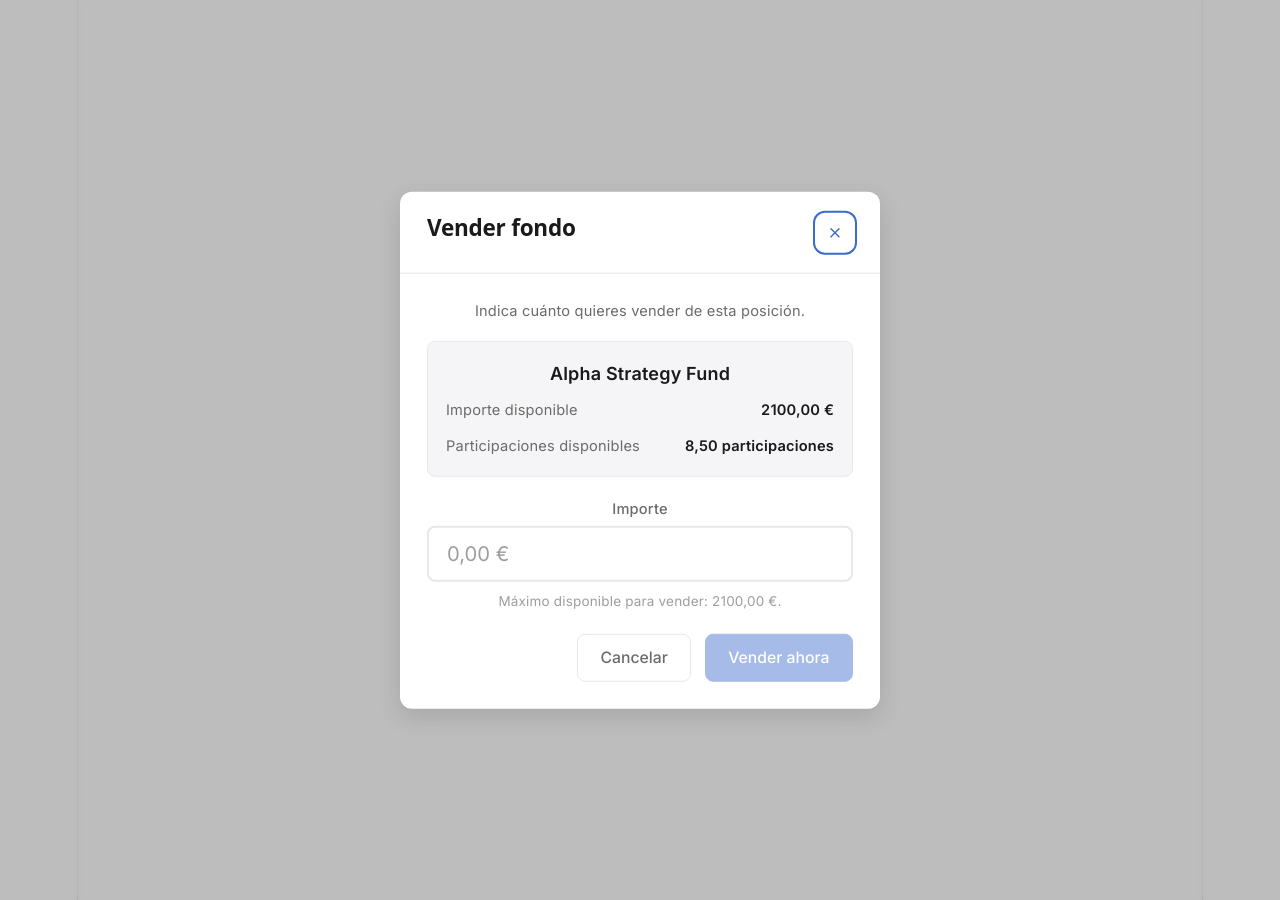
Test: SellDialog › normalizes negative amounts so they cannot be submitted
In the field labelled "Importe": (640, 554) [427,526,853,582], type "-50"
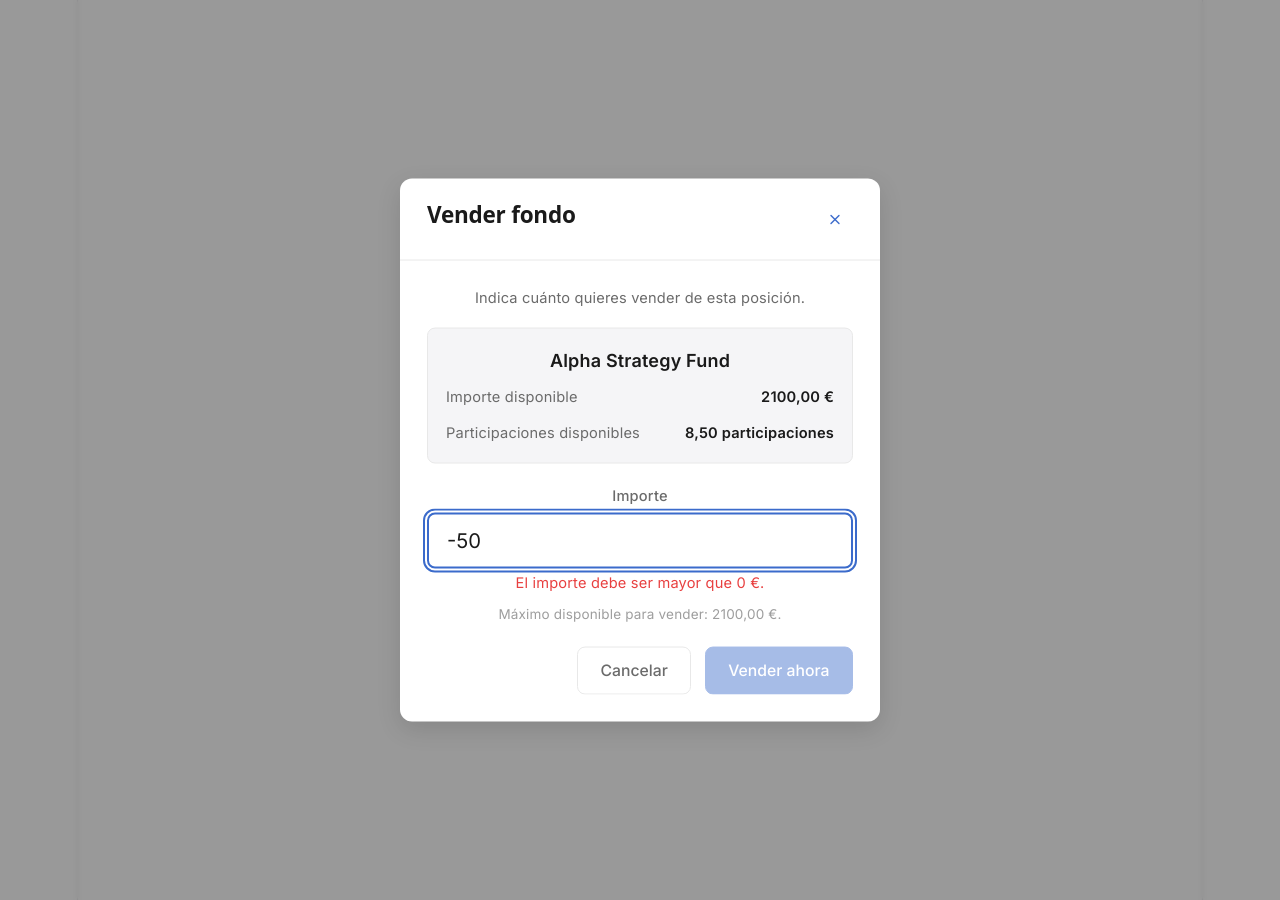
Press Tab
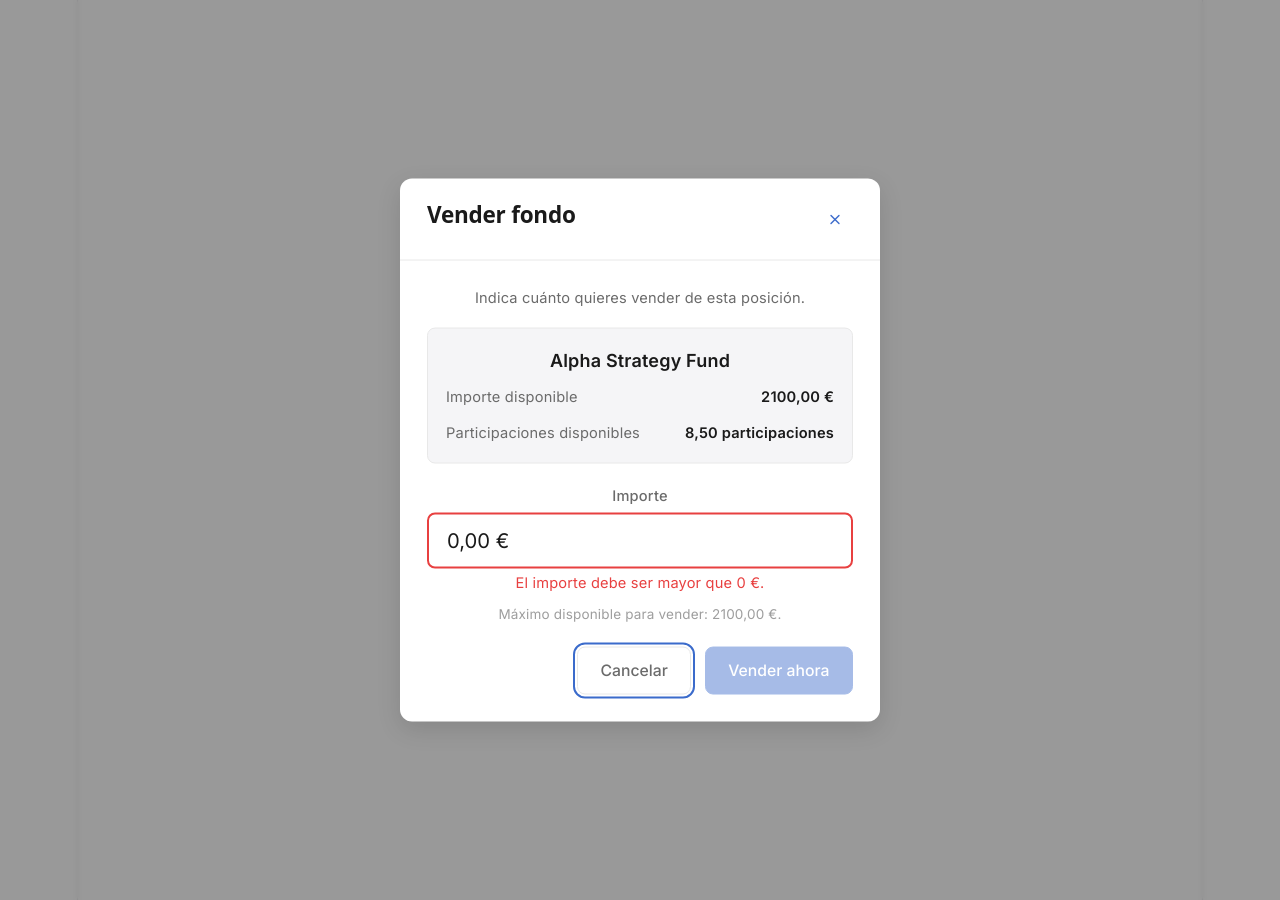
Expected: the button "Vender ahora" is disabled, [705,646,853,694]
Now the message reads "El importe debe ser mayor que 0 €.", box [516,574,764,592]
Now the field labelled "Importe" holds "0,00 €", box [427,512,853,568]
